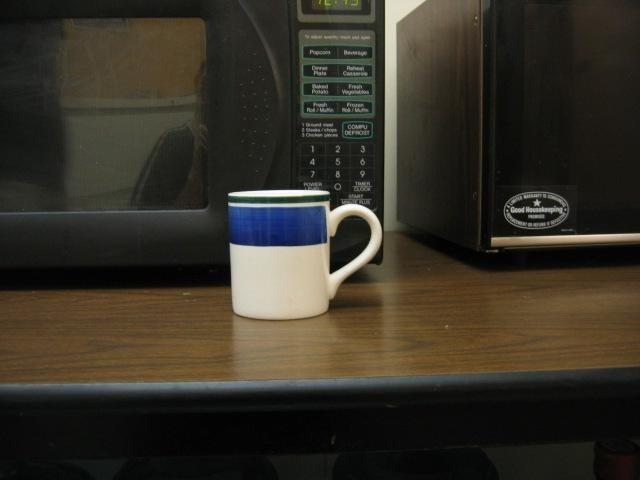cup-handle: (227, 189, 382, 318)
